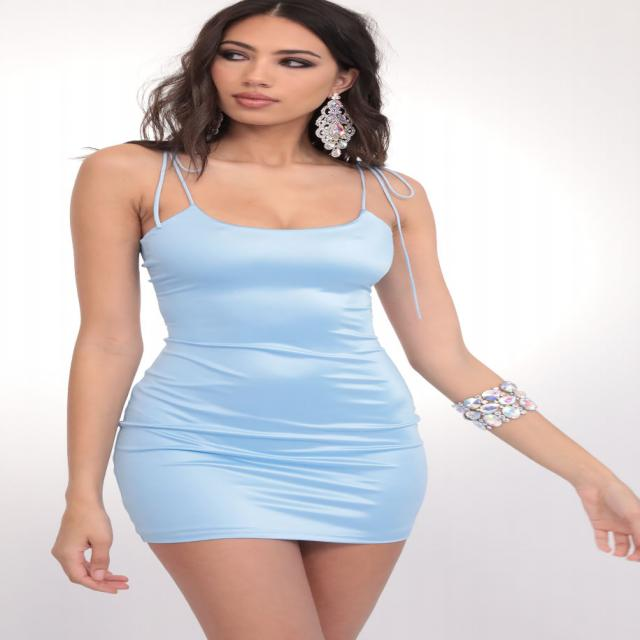clothes: (73, 200, 494, 558)
